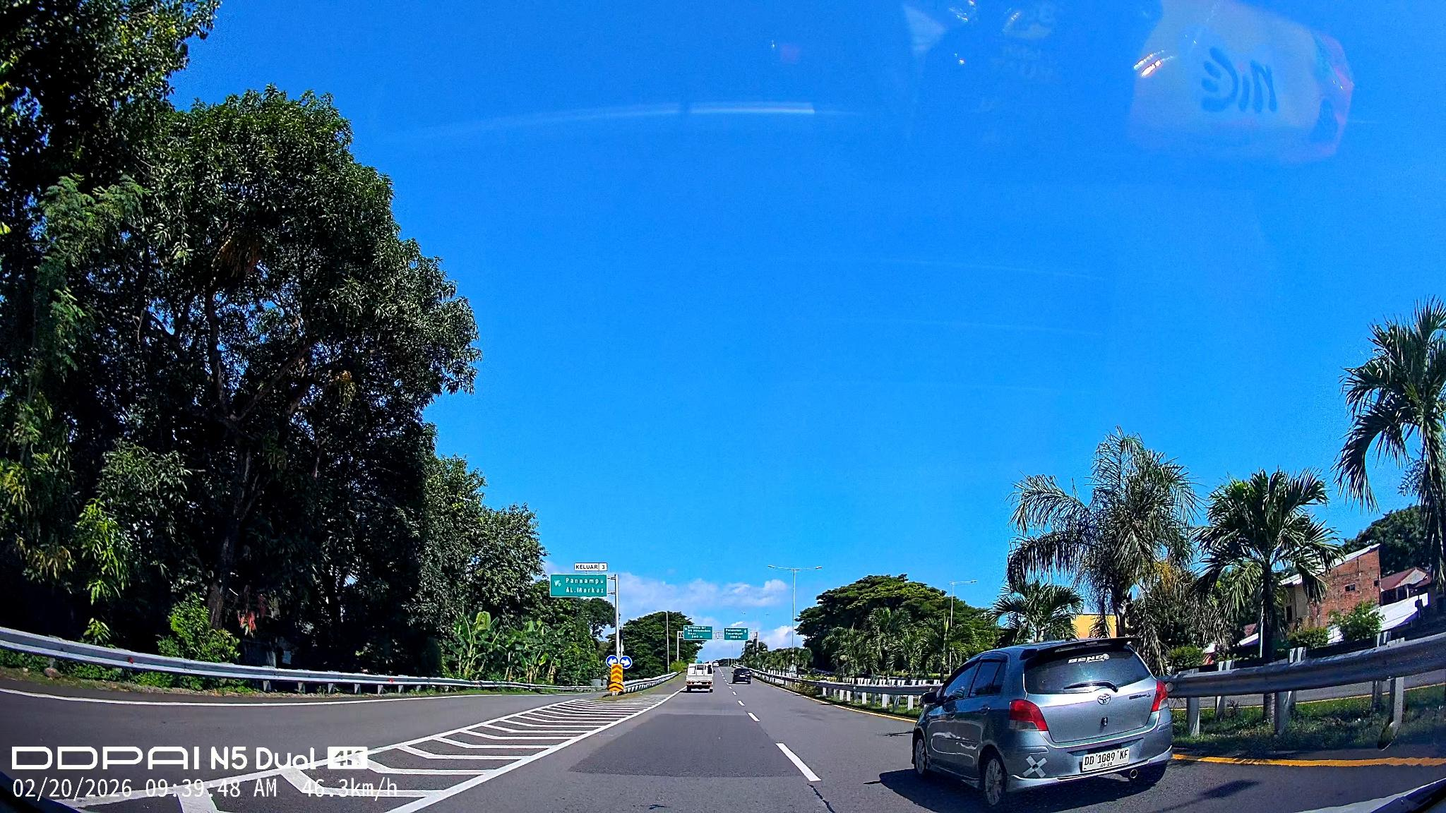rambu_teks: (550, 574, 607, 598)
